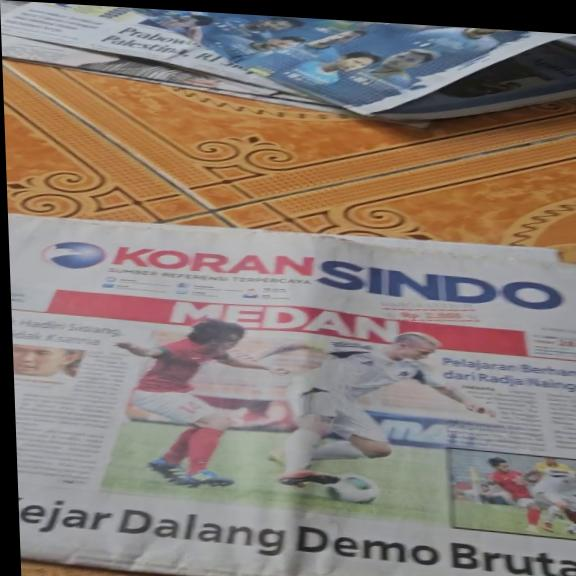Kertas: (14, 219, 576, 576), (1, 1, 571, 97)
